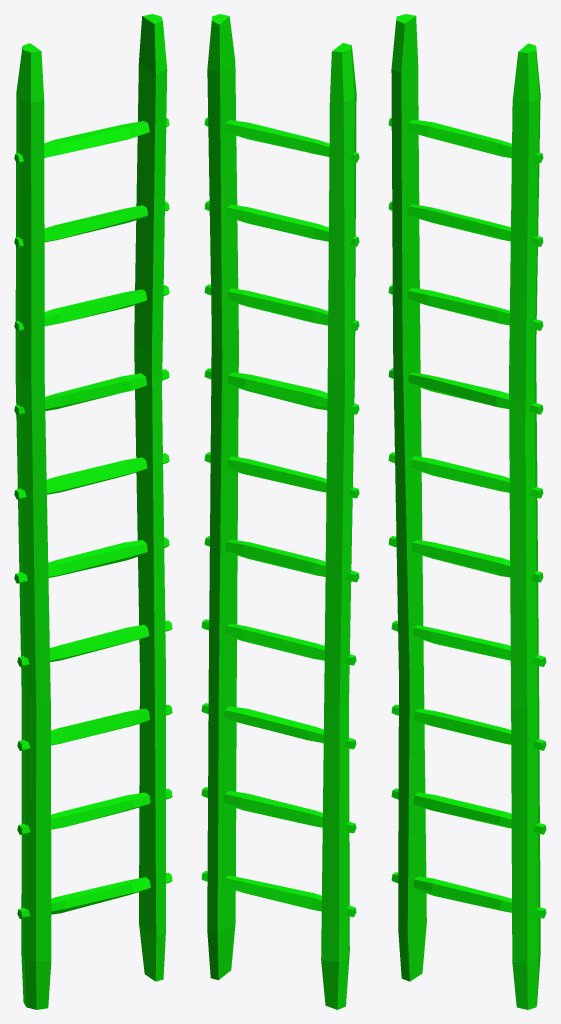
File: SM_Ladder_Basic_Fantasy.fbx
3 views of the same model, side by side, from view 1: azimuth 30°, elevation 25°; view 2: azimuth 150°, elevation 25°; view 3: azimuth 330°, elevation 25° (orthographic).
Parts seen in each view (by area): view 1: SM_Ladder_Basic_Fantasy; view 2: SM_Ladder_Basic_Fantasy; view 3: SM_Ladder_Basic_Fantasy.
Boxes of the visible parts, box(x1,y1,x2,y2) form: SM_Ladder_Basic_Fantasy: box(14, 14, 172, 1009); SM_Ladder_Basic_Fantasy: box(201, 14, 359, 1009); SM_Ladder_Basic_Fantasy: box(388, 14, 546, 1009).
Bounding box in the file's own units: 0.6053 × 3.62 × 0.1269.
